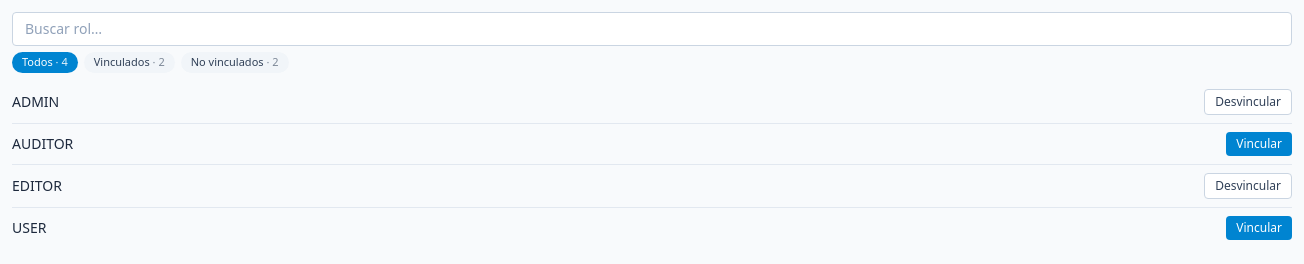
BindingTab › tier 1 toolbar › Vinculados / No vinculados chips narrow to checked-only / unchecked-only
This screenshot has width=1304, height=264.
Step 1. Click the button with test id "role-toggle-checked" → (129,62), box [84, 52, 175, 72]
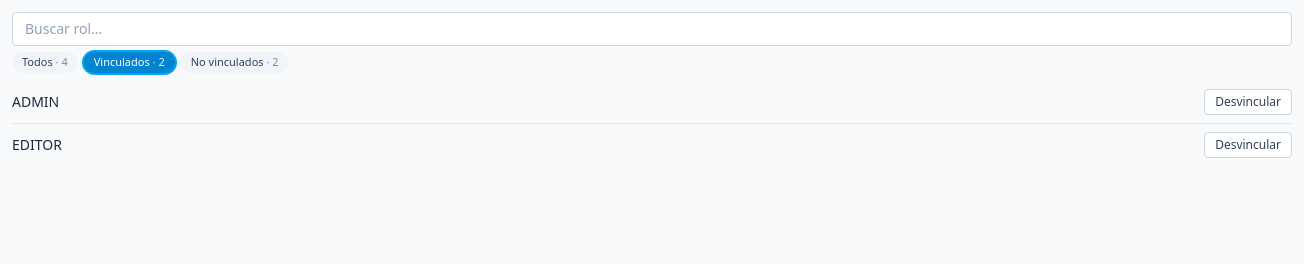
Expected: the list item with test id "role-toggle-row-1" is shown, [12, 80, 1292, 124]
Result: the list item with test id "role-toggle-row-2" is gone
Result: the list item with test id "role-toggle-row-4" is gone
Step 2. Click the button with test id "role-toggle-unchecked" → (235,62), box [181, 52, 289, 72]
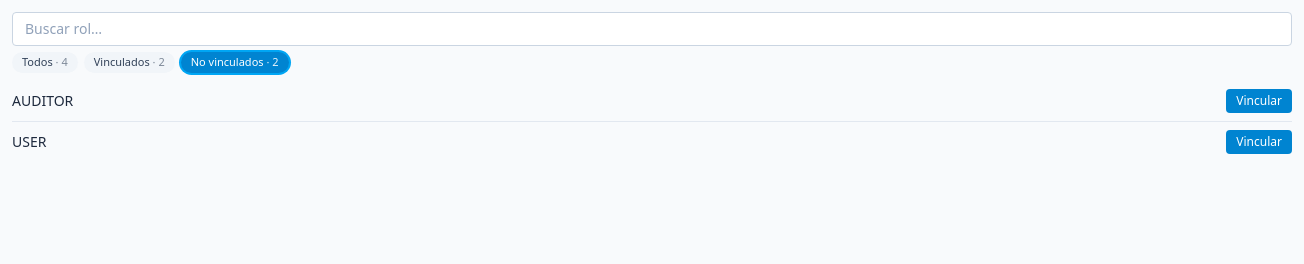
Result: the list item with test id "role-toggle-row-1" is gone
Result: the list item with test id "role-toggle-row-3" is gone
Result: the list item with test id "role-toggle-row-2" is shown at [12, 80, 1292, 122]
Step 3. Click the button with test id "role-toggle-all" → (45,62), box [12, 52, 78, 72]
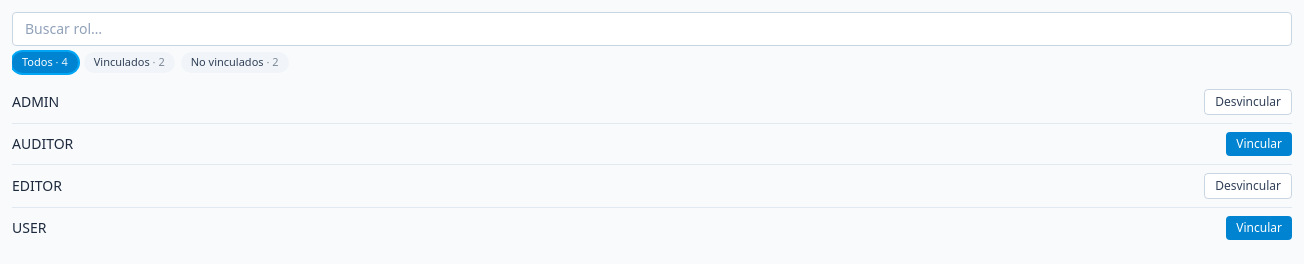
Result: the list item with test id "role-toggle-row-2" is shown at [12, 124, 1292, 164]
Result: the list item with test id "role-toggle-row-1" is shown at [12, 80, 1292, 124]
Result: the list item with test id "role-toggle-row-3" is shown at [12, 164, 1292, 208]
